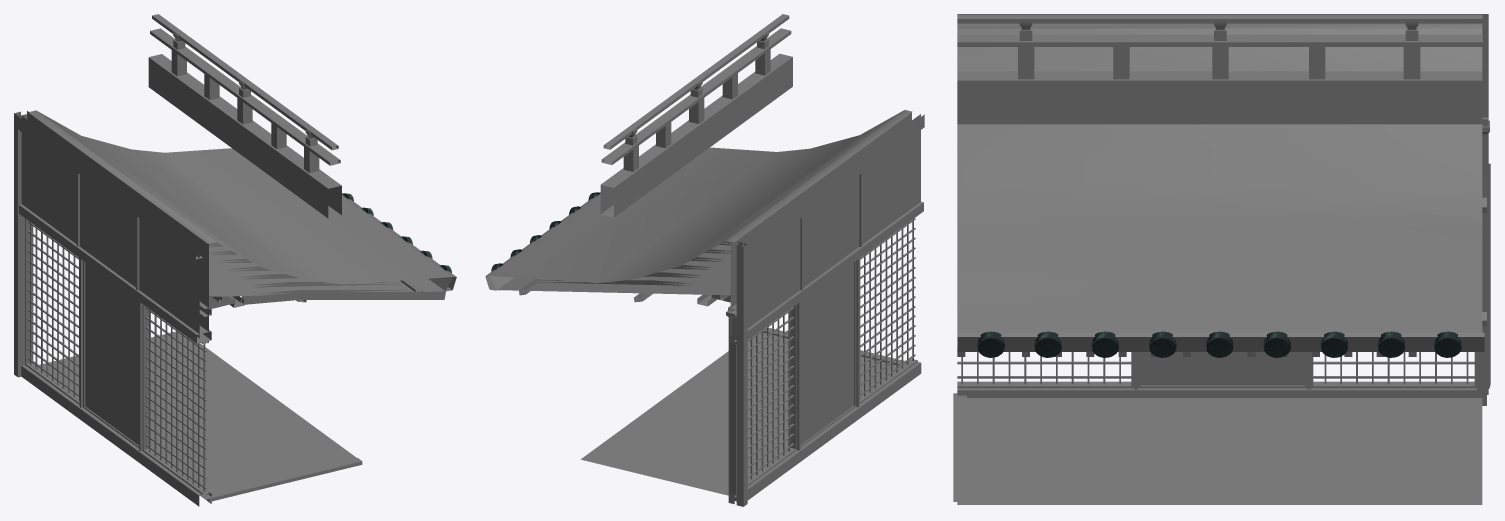
The model's file is FL2_Exterior_Wals.fbx.
The picture shows the model from 3 angles, left to right: view 1: azimuth 30°, elevation 25°; view 2: azimuth 150°, elevation 25°; view 3: azimuth 270°, elevation 25°; orthographic projection. The views are drawn at different scales.
Parts seen in each view (by area): view 1: FL2_Exterior_Wals; view 2: FL2_Exterior_Wals; view 3: FL2_Exterior_Wals.
Boxes of the visible parts, x1,y1,x2,y2 form: FL2_Exterior_Wals: (14,14,456,506); FL2_Exterior_Wals: (485,14,924,506); FL2_Exterior_Wals: (953,14,1490,504).
Size of the model in its own units: 425 by 502 by 512.
